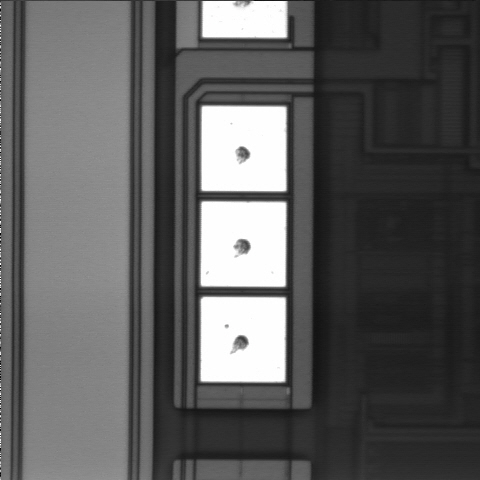pad: (201, 106, 286, 191), (201, 202, 286, 287), (201, 297, 286, 382)
